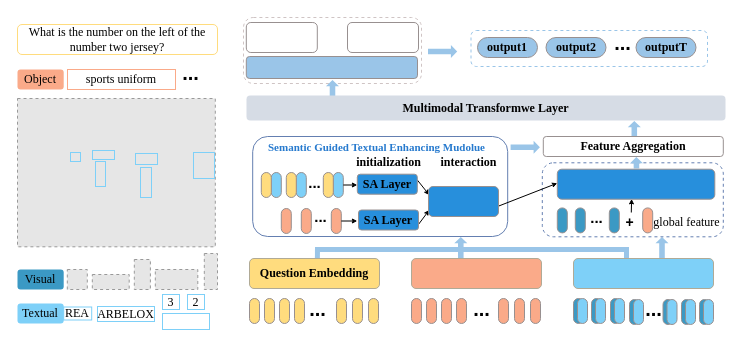
Some shapes in this 749 by 347 pixel diagram are drawn without their labels. Grey dashed boxes stand in for pictures. The centre of each missing label's shape, as x and y in pixels:
"Context Injected Visual Refining Module" goes at point (635, 183).
"ENNAA" goes at point (186, 321).
"GA Layer" goes at point (463, 201).
"Object Embedding" goes at point (476, 273).
"OCR Classifier" goes at point (382, 37).
"OCR Token Embedding" goes at point (643, 273).
"Pointer Network" goes at point (331, 67).
"Vocab Classifier" goes at point (281, 37).
